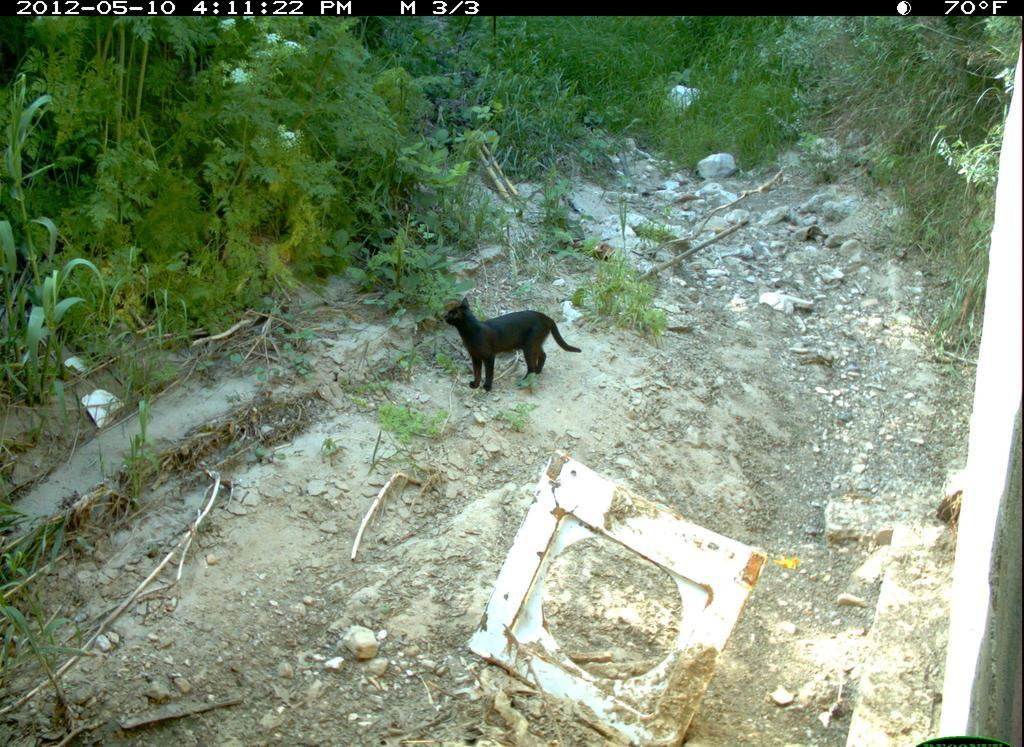cat: (429, 278, 592, 401)
